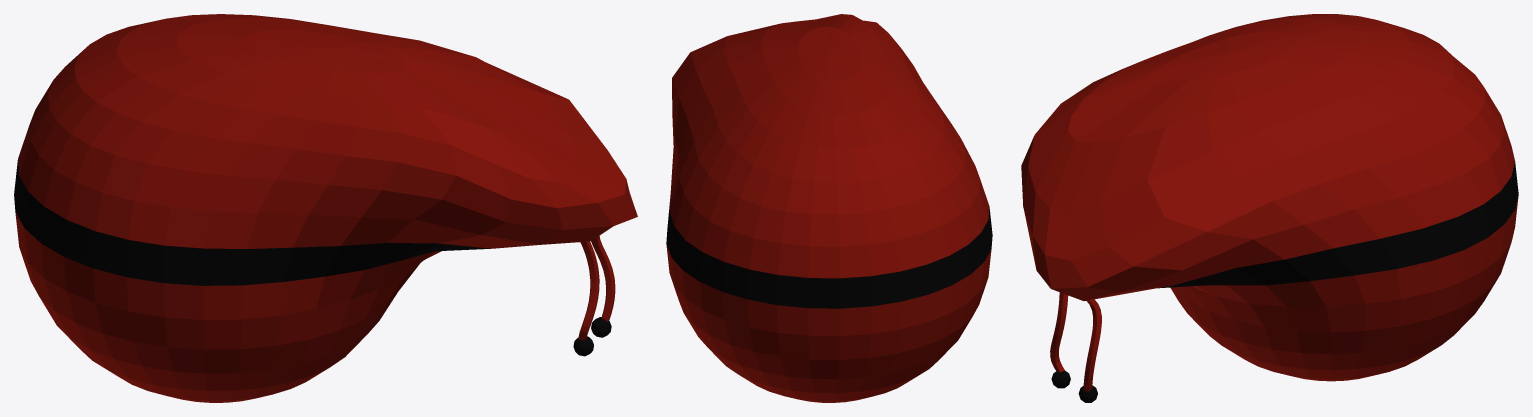
File: BoojeeBeret.fbx
3 renders of one model, left to right at view 1: azimuth 30°, elevation 25°; view 2: azimuth 150°, elevation 25°; view 3: azimuth 270°, elevation 25°, orthographic. The views are drawn at different scales.
Parts seen in each view (by area): view 1: Sphere; view 2: Sphere; view 3: Sphere.
Part boxes in pixels (box(x1,y1,x2,y2)): Sphere: box(14, 14, 637, 402); Sphere: box(666, 14, 992, 402); Sphere: box(1021, 14, 1518, 402).
Bounding box in the file's own units: 179 × 135 × 181.
